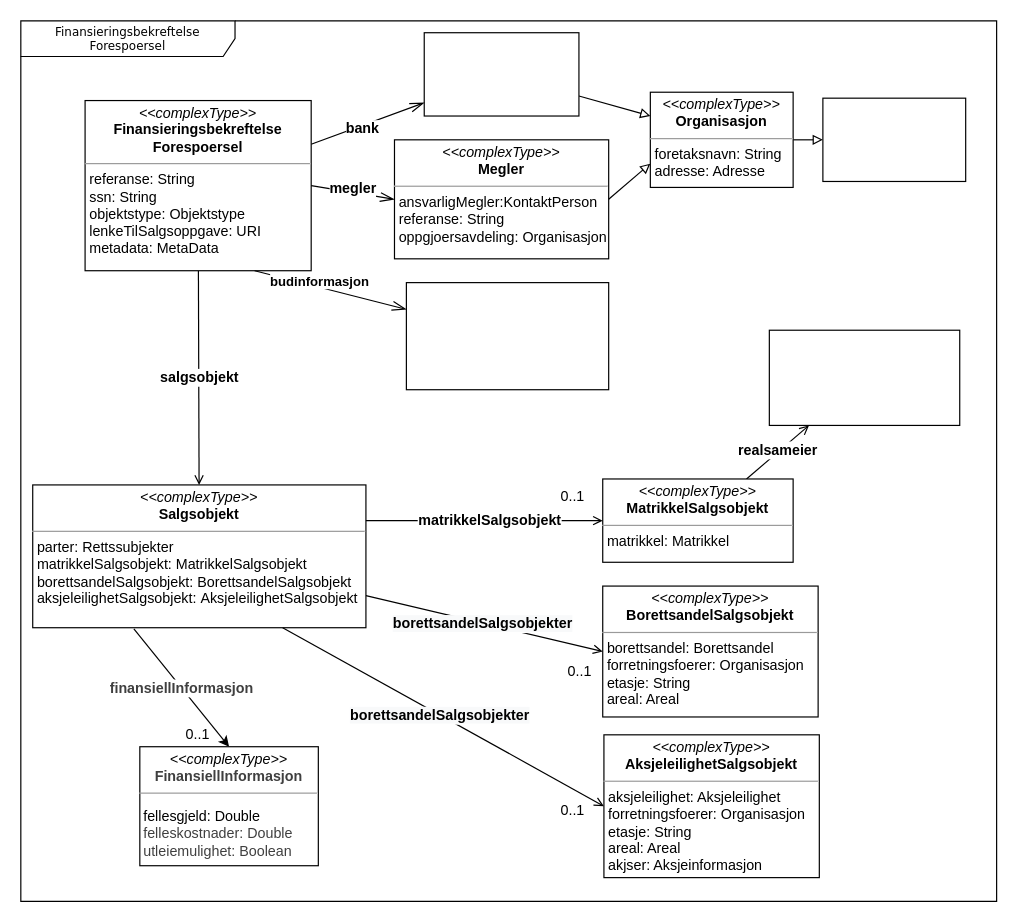
Image size: 1017x922. Some labels were removed from this diagram. Each missing label, with the centre of its shape:
"<<complexType>> Budinformasjon budbelop: Double akseptfrist: Date" belongs at (x=507, y=335).
"<<complexType>> Mottaker referanse: String" belongs at (x=501, y=74).
"<<complexType>> Realsameie matrikkel: Matrikkel eierBroek :Broek" belongs at (x=864, y=377).
"<<complexType>> Rettssubjekt id: String" belongs at (x=894, y=139).
